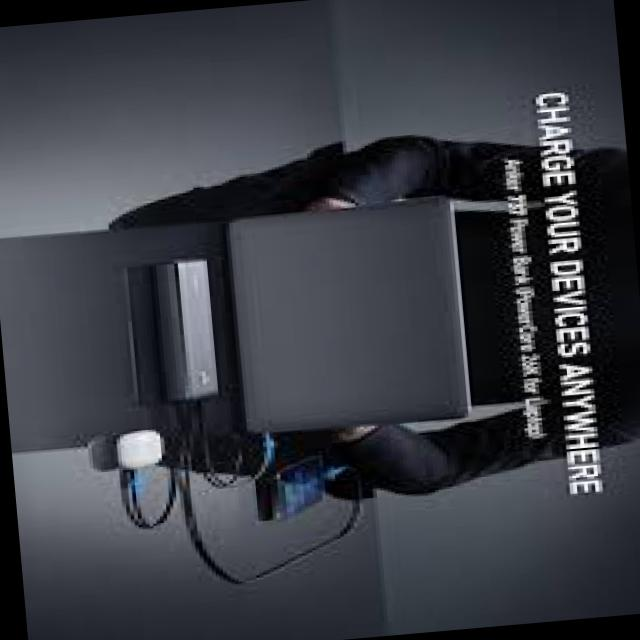power_bank: (143, 256, 230, 406)
